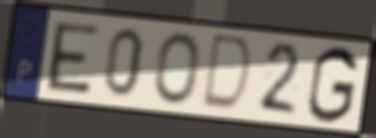0: (103, 25, 147, 101)
2: (254, 40, 305, 122)
D: (198, 31, 255, 116)
E: (46, 20, 101, 97)
G: (305, 44, 361, 127)
O: (153, 30, 201, 107)
